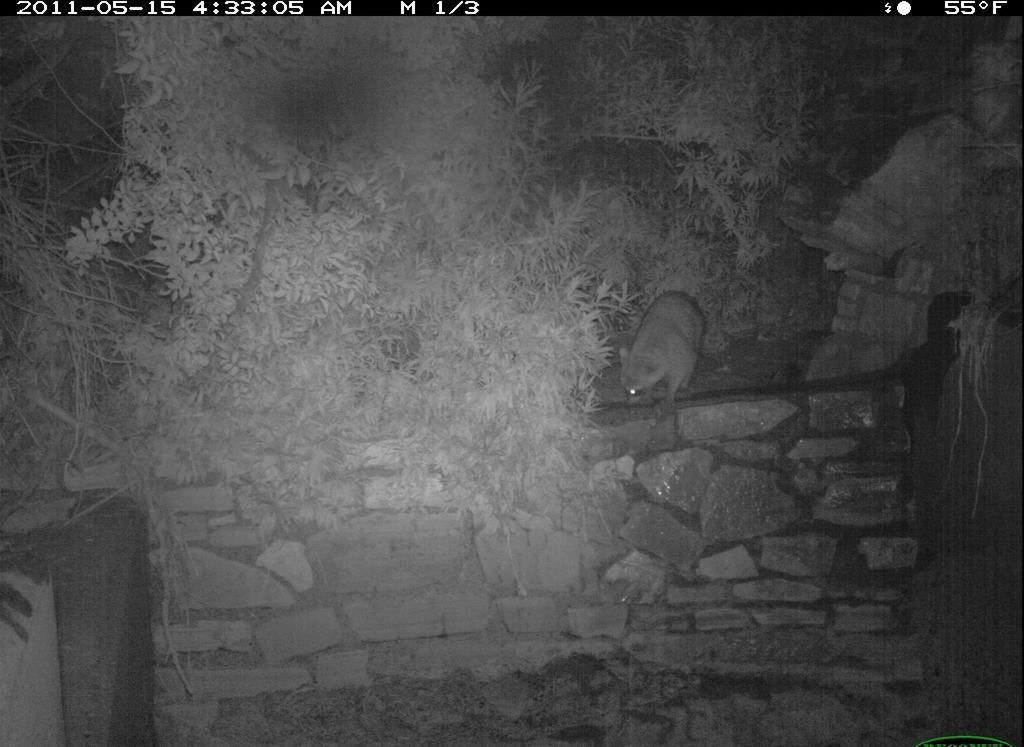raccoon: (619, 271, 712, 420)
